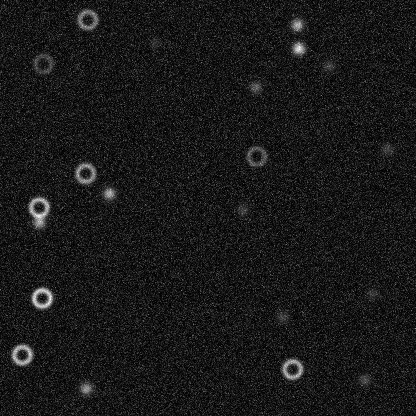Ring: (280, 356, 304, 380), (73, 161, 97, 185), (31, 51, 55, 75), (9, 342, 33, 366), (29, 285, 53, 309), (75, 7, 99, 31), (244, 144, 268, 168), (26, 195, 50, 219)
Spot: (234, 202, 250, 218), (100, 185, 116, 201), (289, 16, 305, 32), (321, 57, 337, 73), (274, 308, 290, 324), (364, 285, 380, 301), (247, 79, 263, 95), (77, 380, 93, 396), (379, 141, 395, 157), (31, 213, 47, 229), (290, 40, 306, 56), (356, 371, 372, 387), (146, 34, 162, 50)
